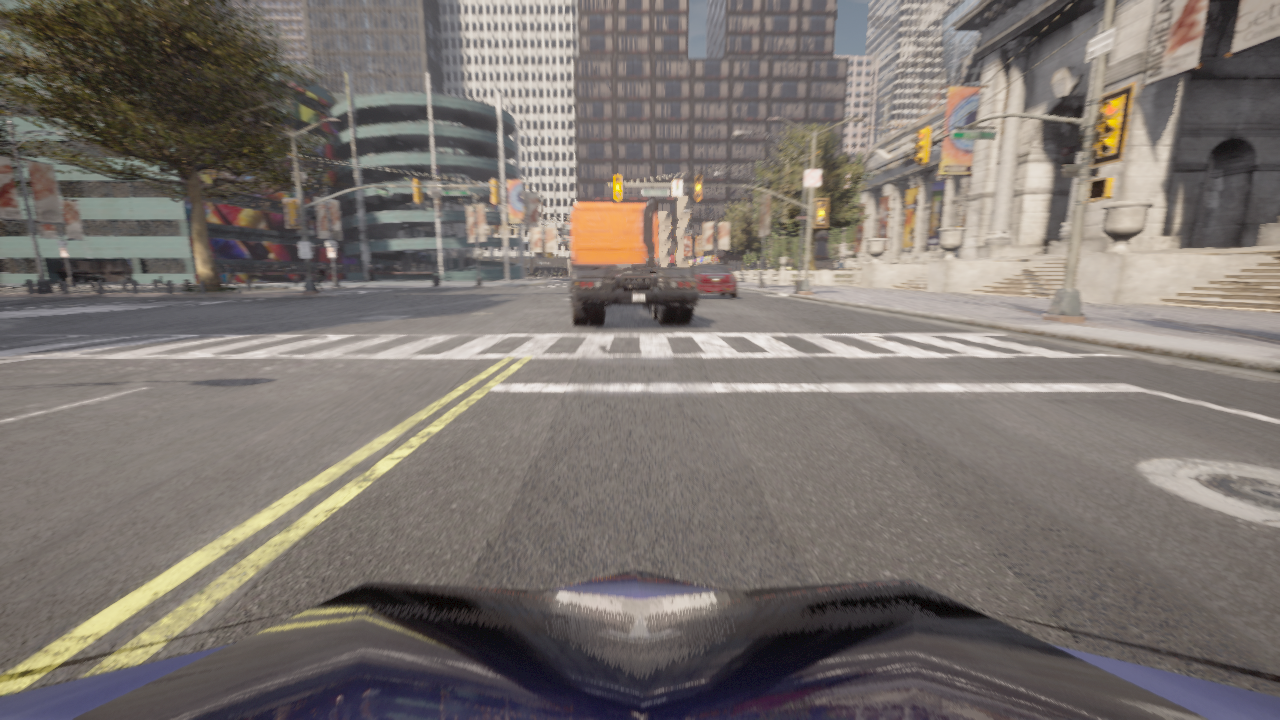cyclist: (0, 569, 1279, 719), (562, 200, 698, 325), (694, 263, 736, 298), (65, 270, 105, 283), (312, 277, 334, 293), (261, 267, 298, 273), (220, 269, 245, 273), (171, 271, 182, 273)
pedestrian: (226, 265, 236, 284)
